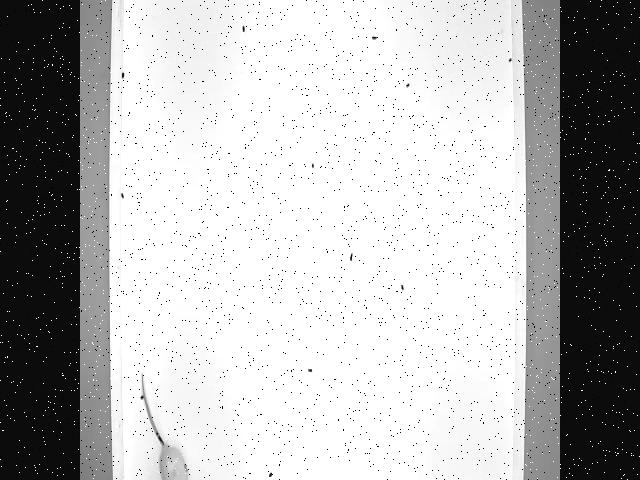Tikus: (135, 362, 193, 480)
